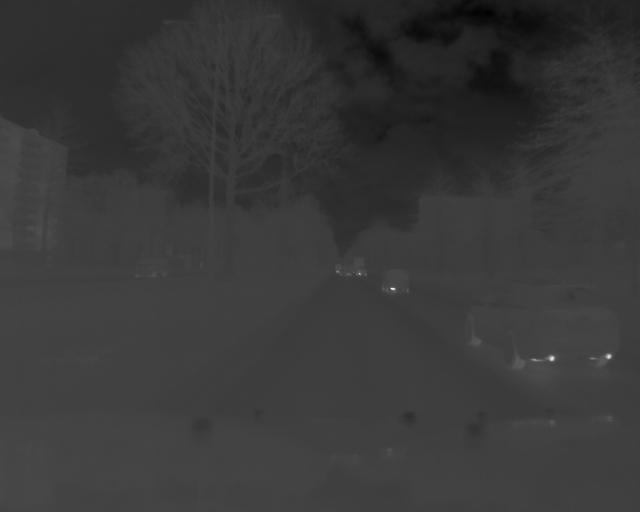car: (458, 287, 622, 372), (378, 266, 413, 297), (133, 253, 169, 280), (356, 262, 370, 279)
